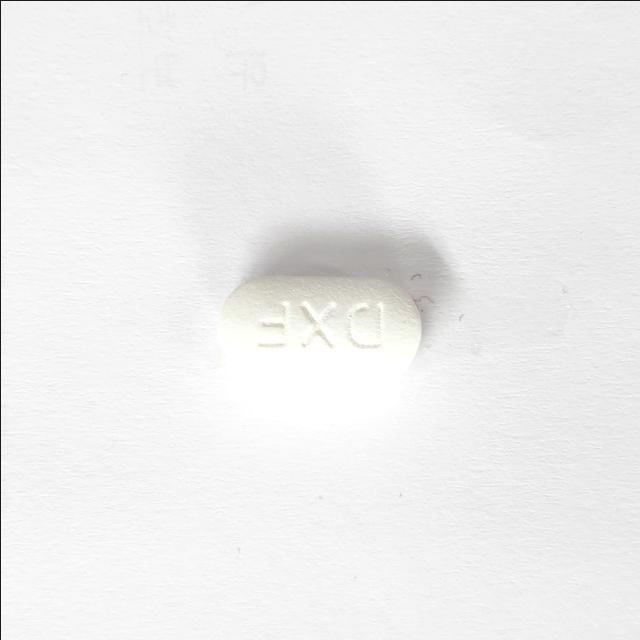pill: (215, 265, 425, 393)
